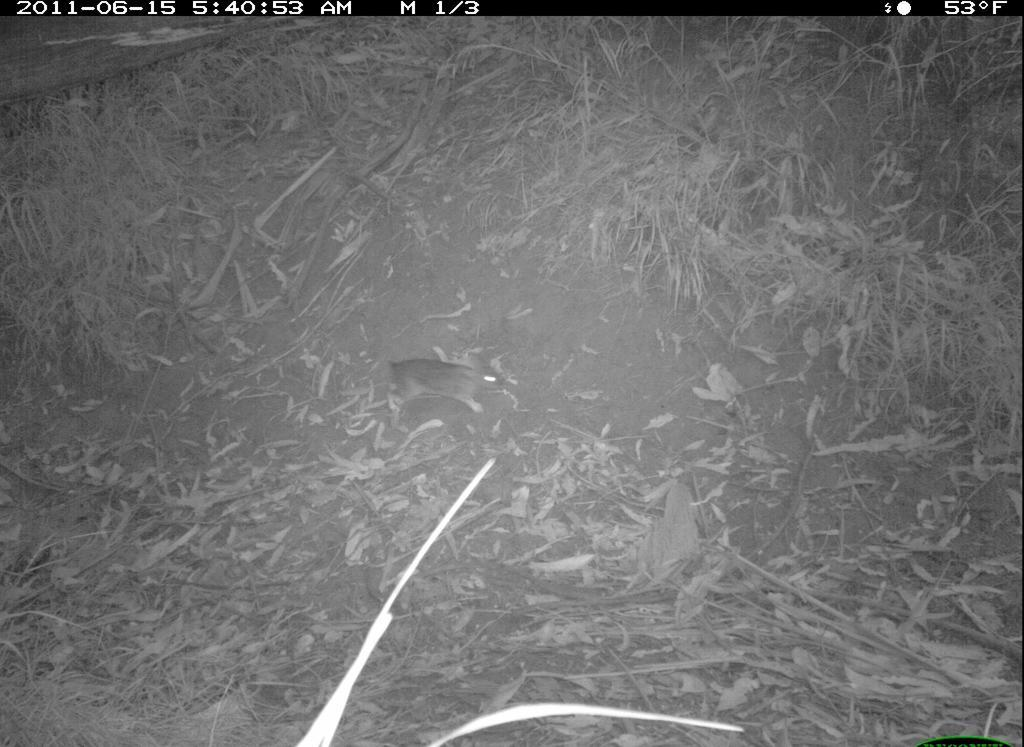rabbit: (374, 346, 514, 425)
